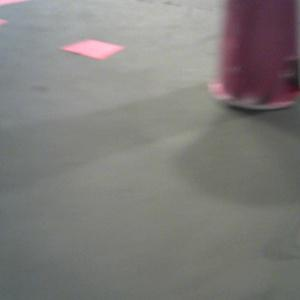right: (207, 1, 300, 110)
